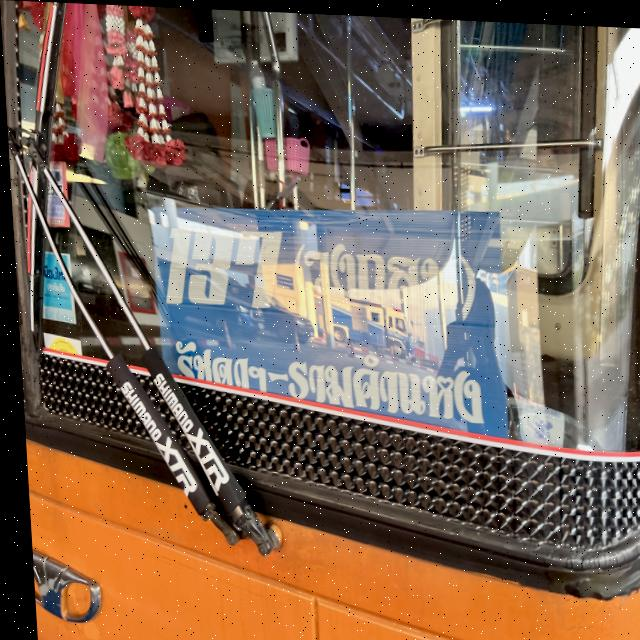Destination Sign: (149, 207, 503, 433)
